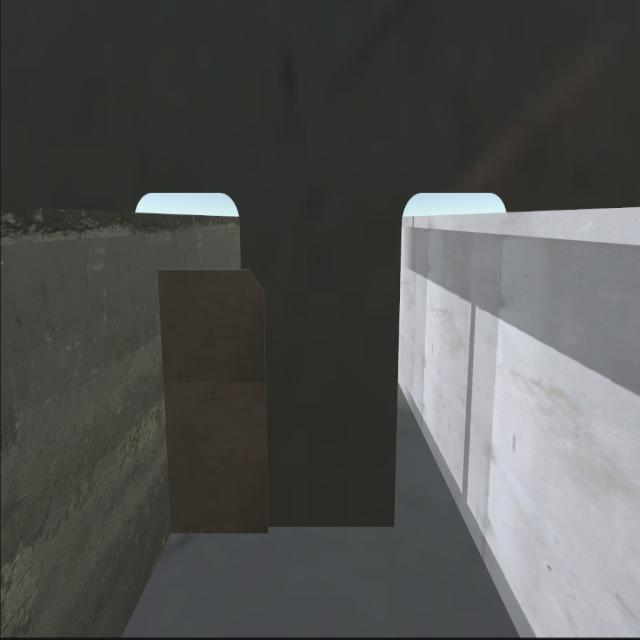fillet_yong_jeop_jang: (169, 512, 400, 541)
longi_yong_jeop_jang: (148, 267, 180, 536)
plate_CP03: (154, 271, 274, 537)
